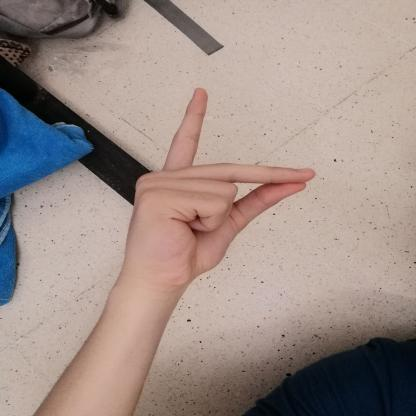TAA: (113, 78, 327, 286)
